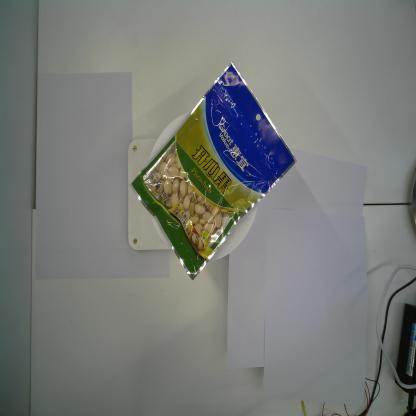Dried Fruit: (129, 61, 298, 282)
